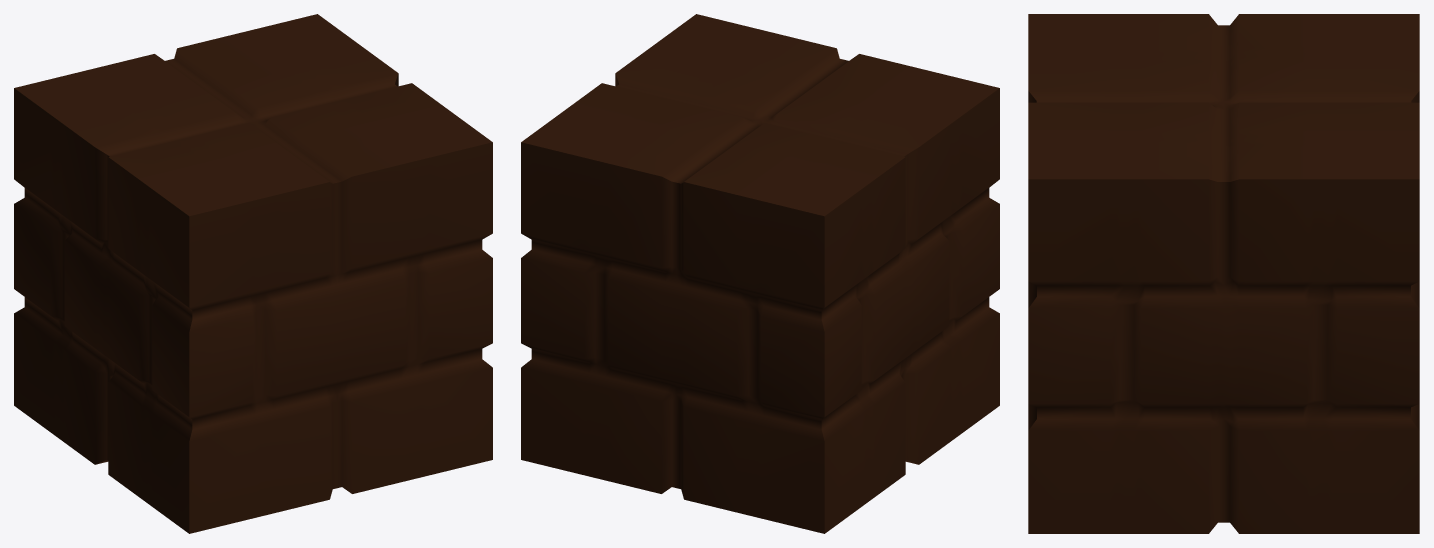
File: block.obj
3 views of the same model, side by side, from view 1: azimuth 30°, elevation 25°; view 2: azimuth 150°, elevation 25°; view 3: azimuth 270°, elevation 25° (orthographic). The views are drawn at different scales.
Visible parts, largest first — view 1: cube; view 2: cube; view 3: cube.
Part boxes in pixels (<box>): cube: <box>14,14,492,533</box>; cube: <box>521,14,999,533</box>; cube: <box>1028,14,1419,533</box>.
Bounding box in the file's own units: 12.01 × 12 × 12.
